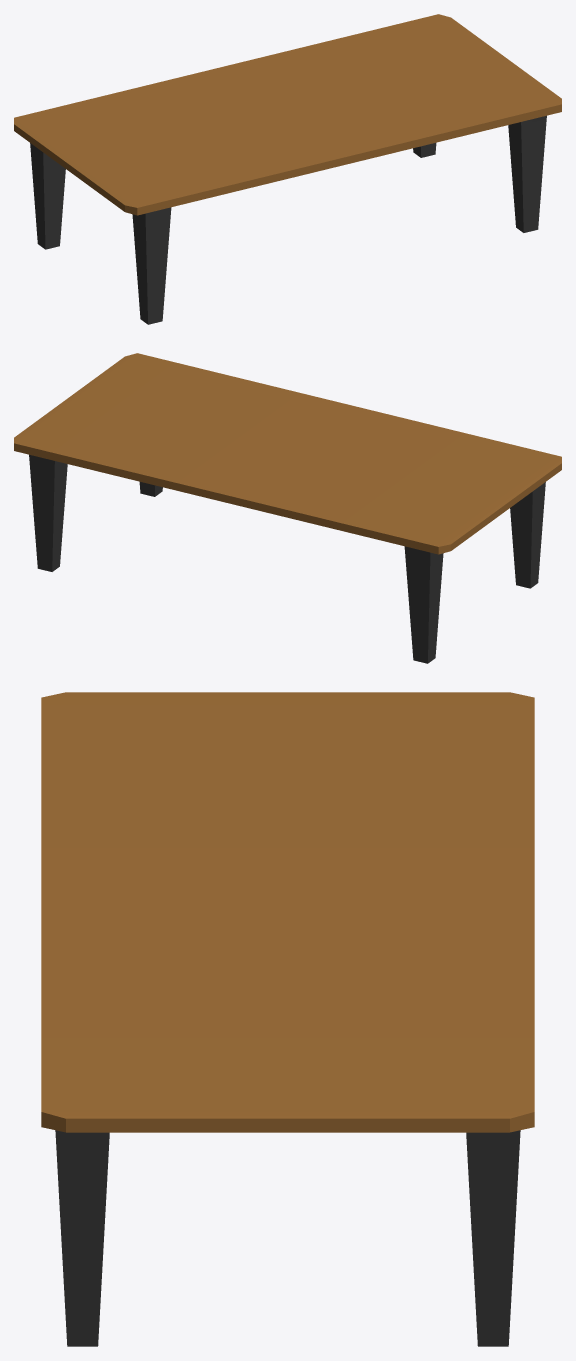
Rendered from Desk.fbx.
The picture shows the model from 3 angles, top to bottom: view 1: azimuth 30°, elevation 25°; view 2: azimuth 150°, elevation 25°; view 3: azimuth 270°, elevation 25°; orthographic projection. The views are drawn at different scales.
Parts seen in each view (by area): view 1: Cube_001; view 2: Cube_001; view 3: Cube_001.
Part boxes in pixels (x1,y1,x2,y2): Cube_001: (14, 14, 561, 324); Cube_001: (14, 353, 561, 663); Cube_001: (41, 692, 534, 1346).
Size of the model in its own units: 3.47 by 0.9552 by 1.7.
1 material, 1 textured.
